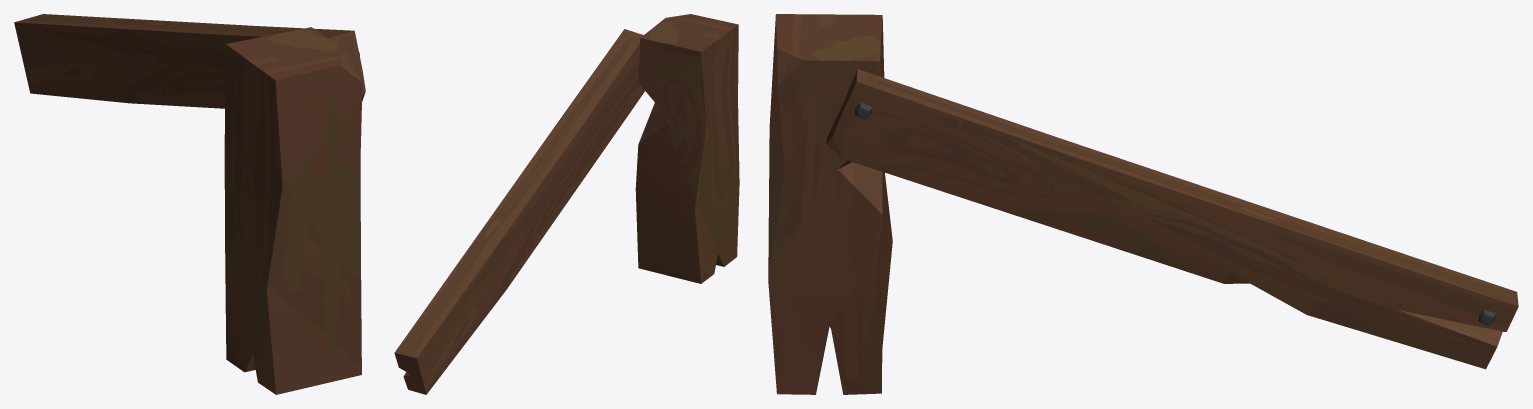
The model's file is Fence5.fbx.
The picture shows the model from 3 angles, left to right: view 1: azimuth 30°, elevation 25°; view 2: azimuth 150°, elevation 25°; view 3: azimuth 270°, elevation 25°; orthographic projection. The views are drawn at different scales.
Visible parts, largest first — view 1: Słupek2.003; view 2: Słupek2.003; view 3: Słupek2.003.
Boxes of the visible parts, x1=… form: Słupek2.003: x1=14, y1=14, x2=365, y2=394; Słupek2.003: x1=394, y1=14, x2=739, y2=394; Słupek2.003: x1=768, y1=14, x2=1518, y2=394.
Bounding box in the file's own units: 37.93 × 89.17 × 181.
1 material, 1 textured.
